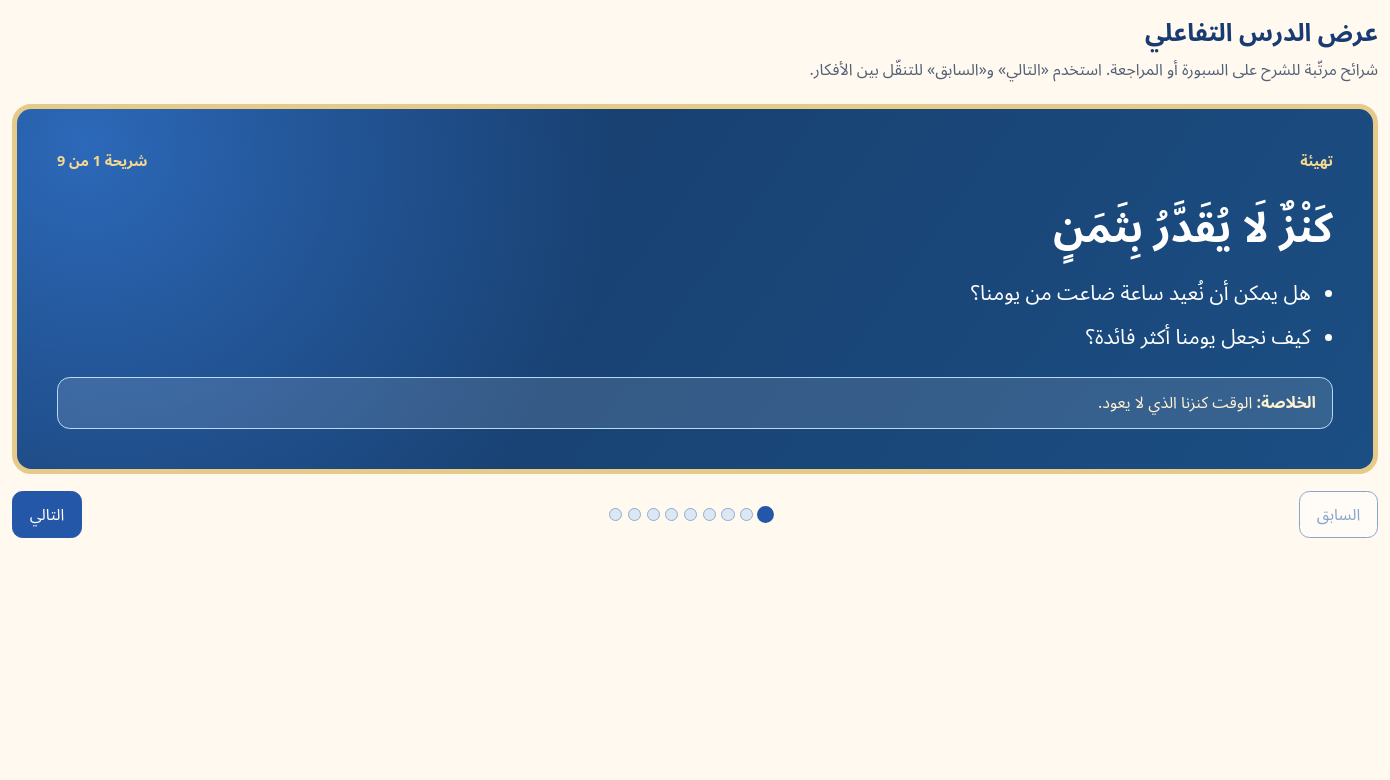
التفاعلات التعليمية لدرس كنز لا يقدر بثمن › يتنقل بين الشرائح ويمكنه اختيار شريحة مباشرة
Expected: the text "شريحة 1 من 9" is shown, left=57, top=149, right=147, bottom=172
What coordinates should you click on to do the following:
click the button "التالي"
I would click on:
 (47, 515)
Its box is left=12, top=491, right=82, bottom=538.
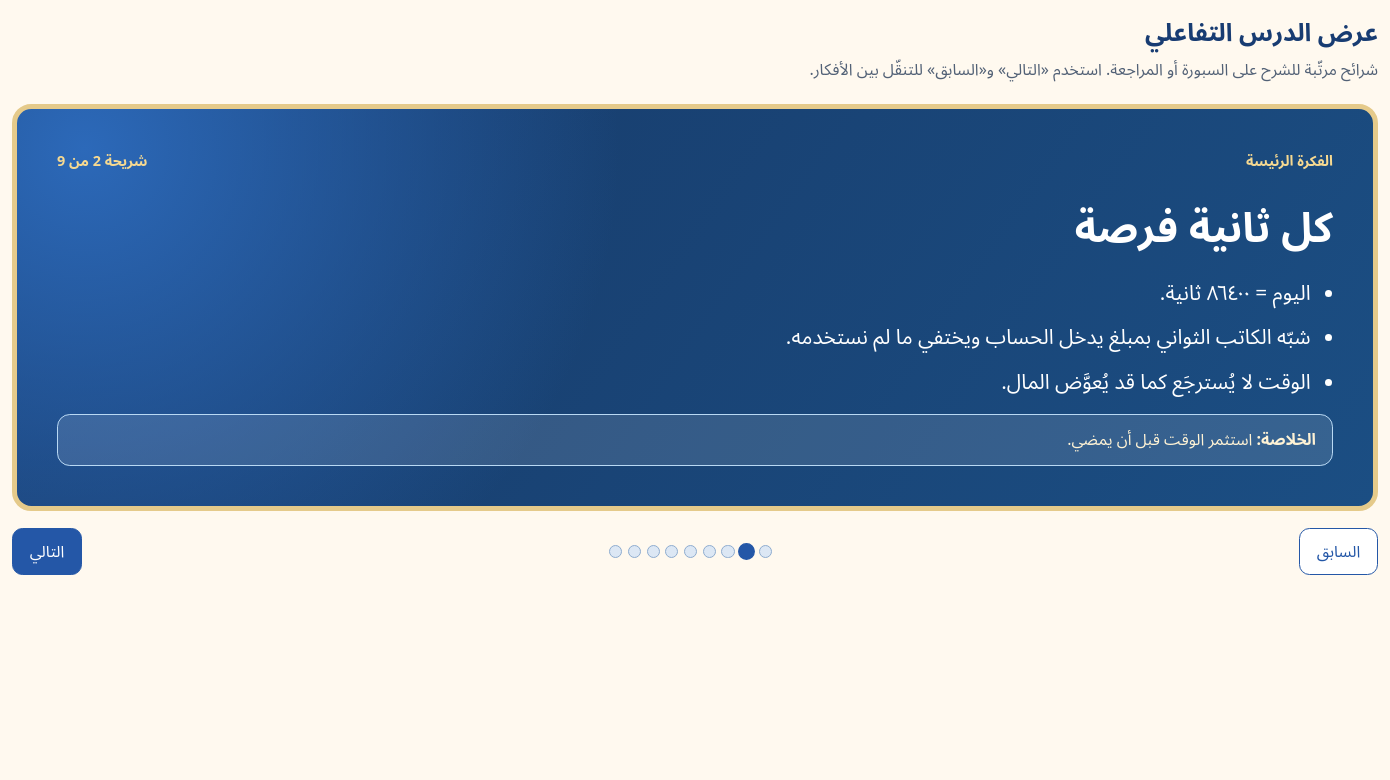
Expected: the text "شريحة 2 من 9" is shown, left=57, top=149, right=147, bottom=172
What coordinates should you click on to do the following:
click the button named "شريحة 9: خمس خطوات"
I would click on:
 (616, 552)
Its box is left=609, top=545, right=622, bottom=558.
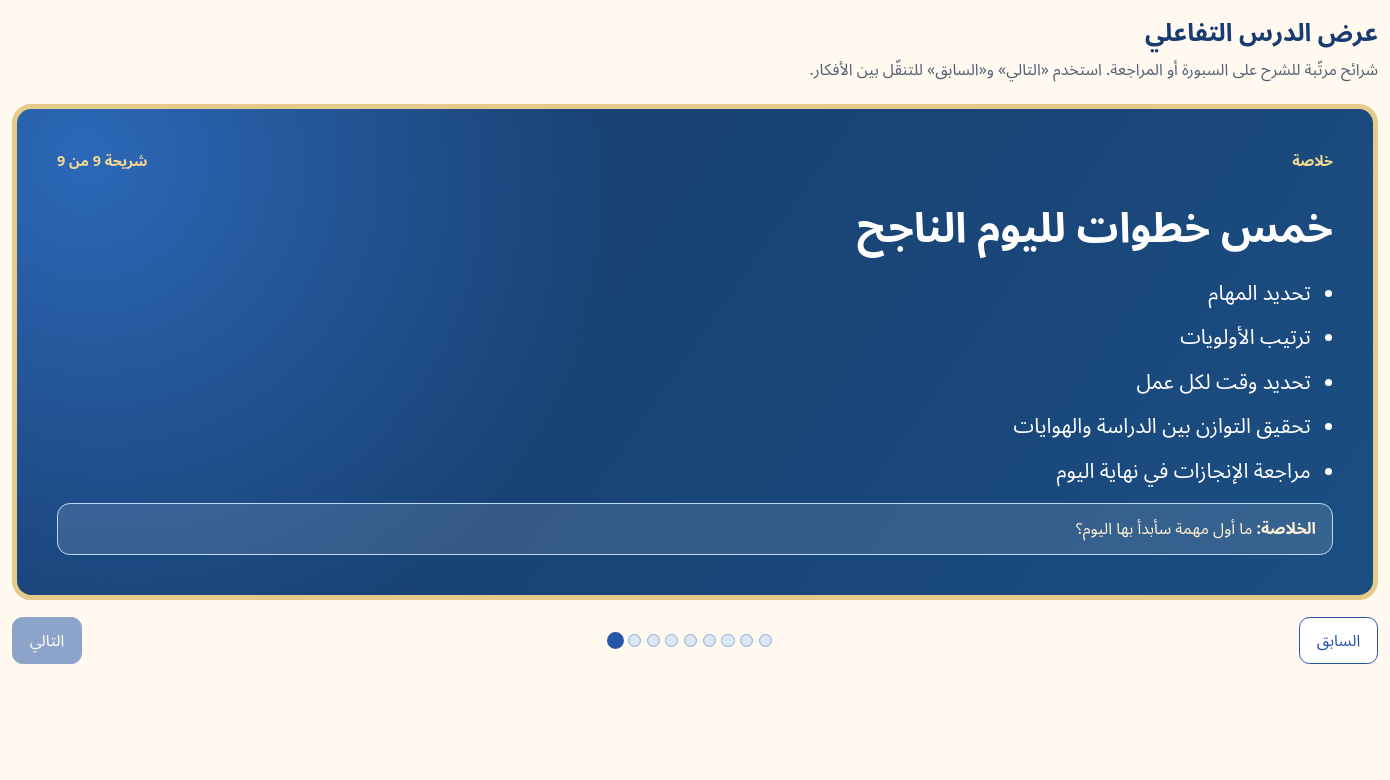
Expected: the text "شريحة 9 من 9" is shown, left=57, top=149, right=147, bottom=172
